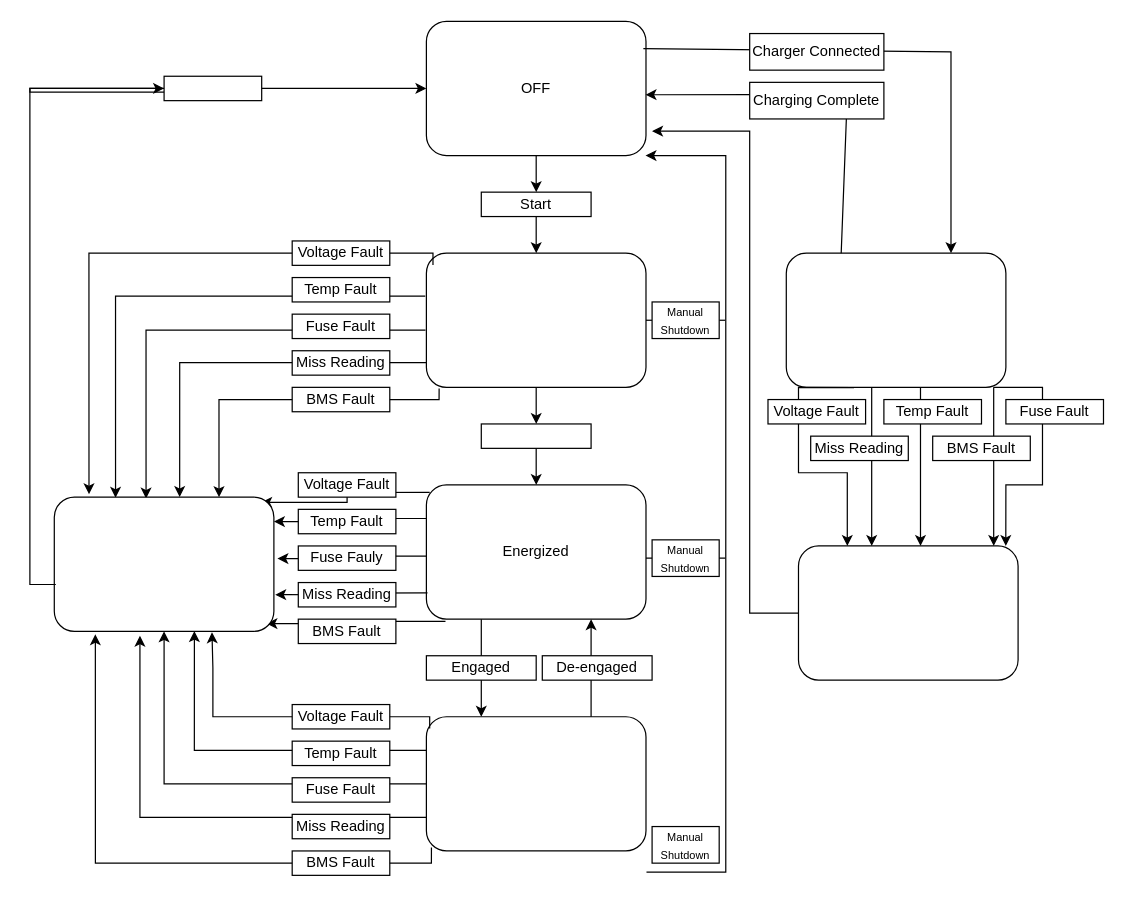
Image size: 1125x904. Some labels were removed from this diagram. The shapes that lost their labels are listed below. From the top down, each one's centre as x and y in pixels, then its label:
At point (212, 88): "Manuel Reset".
At point (535, 319): "Precharging".
At point (895, 319): "Charging".
At point (535, 435): "Precharged".
At point (163, 563): "Fault".
At point (907, 612): "Charging Fault".
At point (535, 783): "Ready to Drive".
